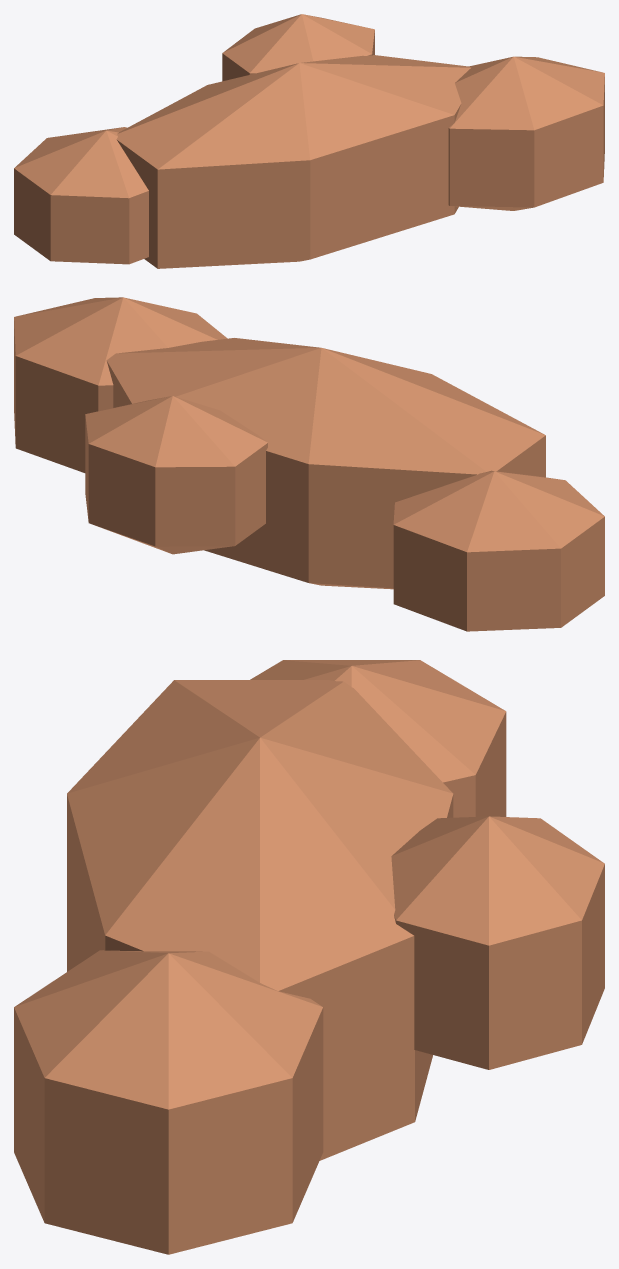
The model's file is ginger-raw.glb.
3 renders of one model, top to bottom at view 1: azimuth 30°, elevation 25°; view 2: azimuth 150°, elevation 25°; view 3: azimuth 270°, elevation 25°, orthographic. The views are drawn at different scales.
Visible parts, largest first — view 1: ginger-raw; view 2: ginger-raw; view 3: ginger-raw.
Boxes of the visible parts, x1,y1,x2,y2 form: ginger-raw: [14, 14, 604, 268]; ginger-raw: [14, 297, 604, 631]; ginger-raw: [14, 660, 604, 1254].
Size of the model in its own units: 0.2484 by 0.09 by 0.1291.
1 material, 1 textured.
